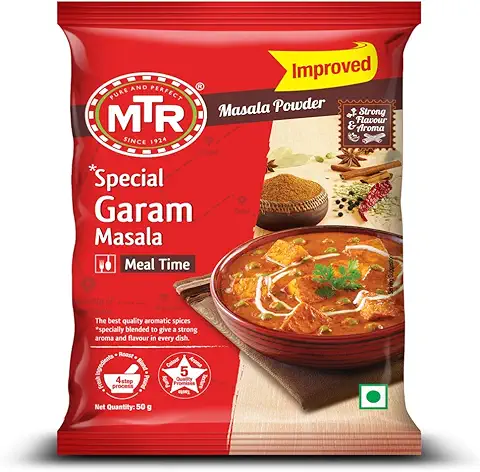Garamasala: (58, 2, 426, 457)
